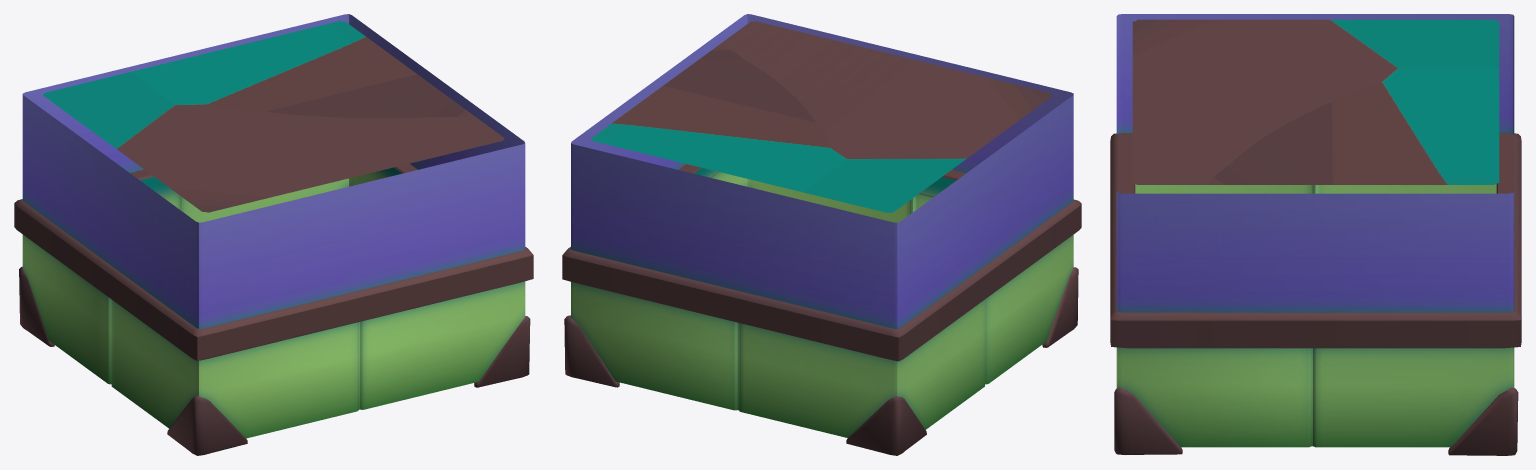
File: HoopsBoxWall2.fbx
3 renders of one model, left to right at view 1: azimuth 30°, elevation 25°; view 2: azimuth 150°, elevation 25°; view 3: azimuth 270°, elevation 25°, orthographic. The views are drawn at different scales.
Parts seen in each view (by area): view 1: ENV_S02_MovableBox_MO_0; view 2: ENV_S02_MovableBox_MO_0; view 3: ENV_S02_MovableBox_MO_0.
Part boxes in pixels (box(x1,y1,x2,y2)): ENV_S02_MovableBox_MO_0: box(14, 14, 533, 455); ENV_S02_MovableBox_MO_0: box(562, 14, 1081, 455); ENV_S02_MovableBox_MO_0: box(1110, 14, 1521, 455).
Size of the model in its own units: 12.26 by 8.11 by 11.51.
